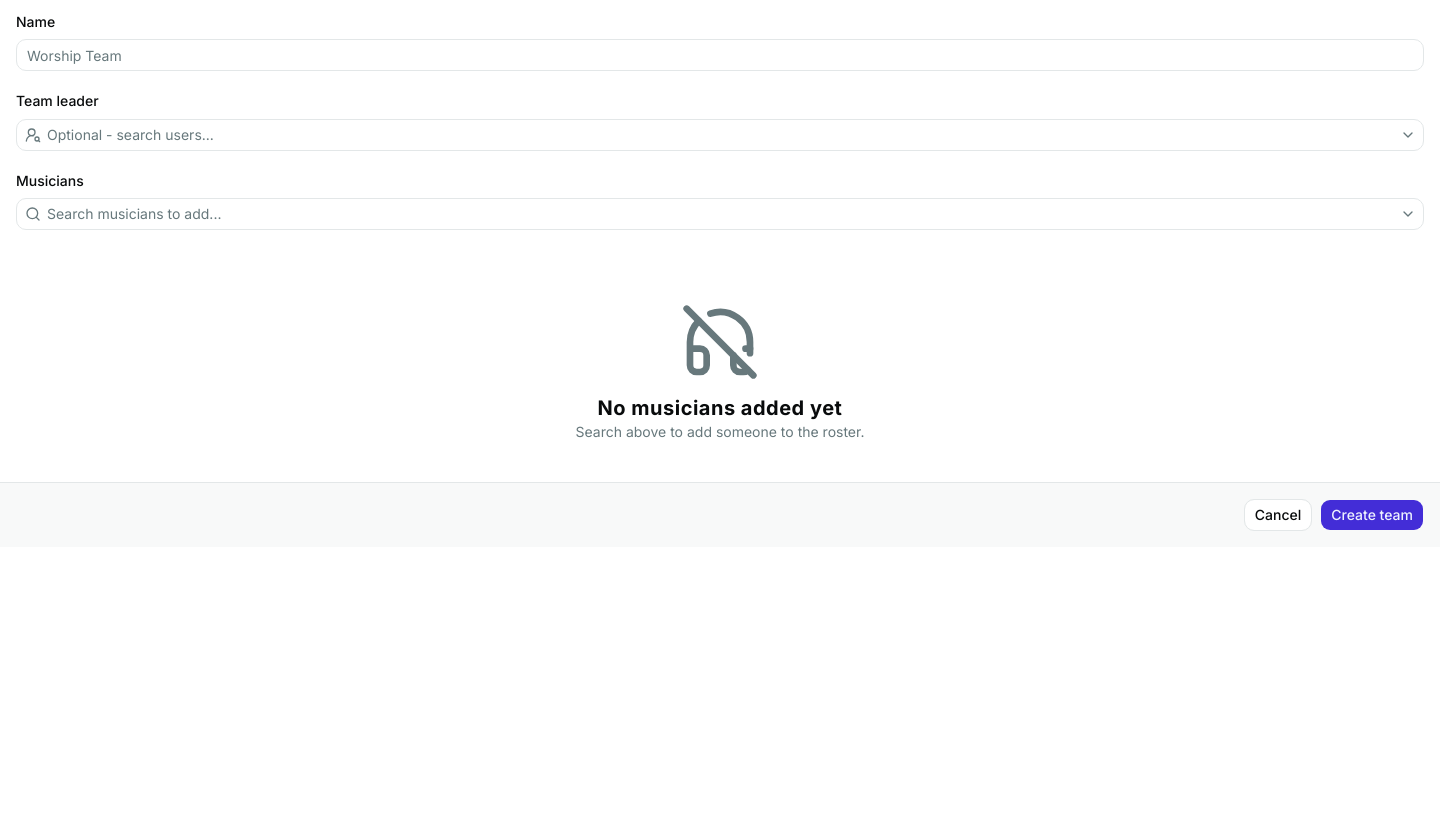
Test: CreateTeamForm › blocks submission and shows an inline error when name is empty
Click the button "Create team": (1372, 515) [1320,499,1424,531]
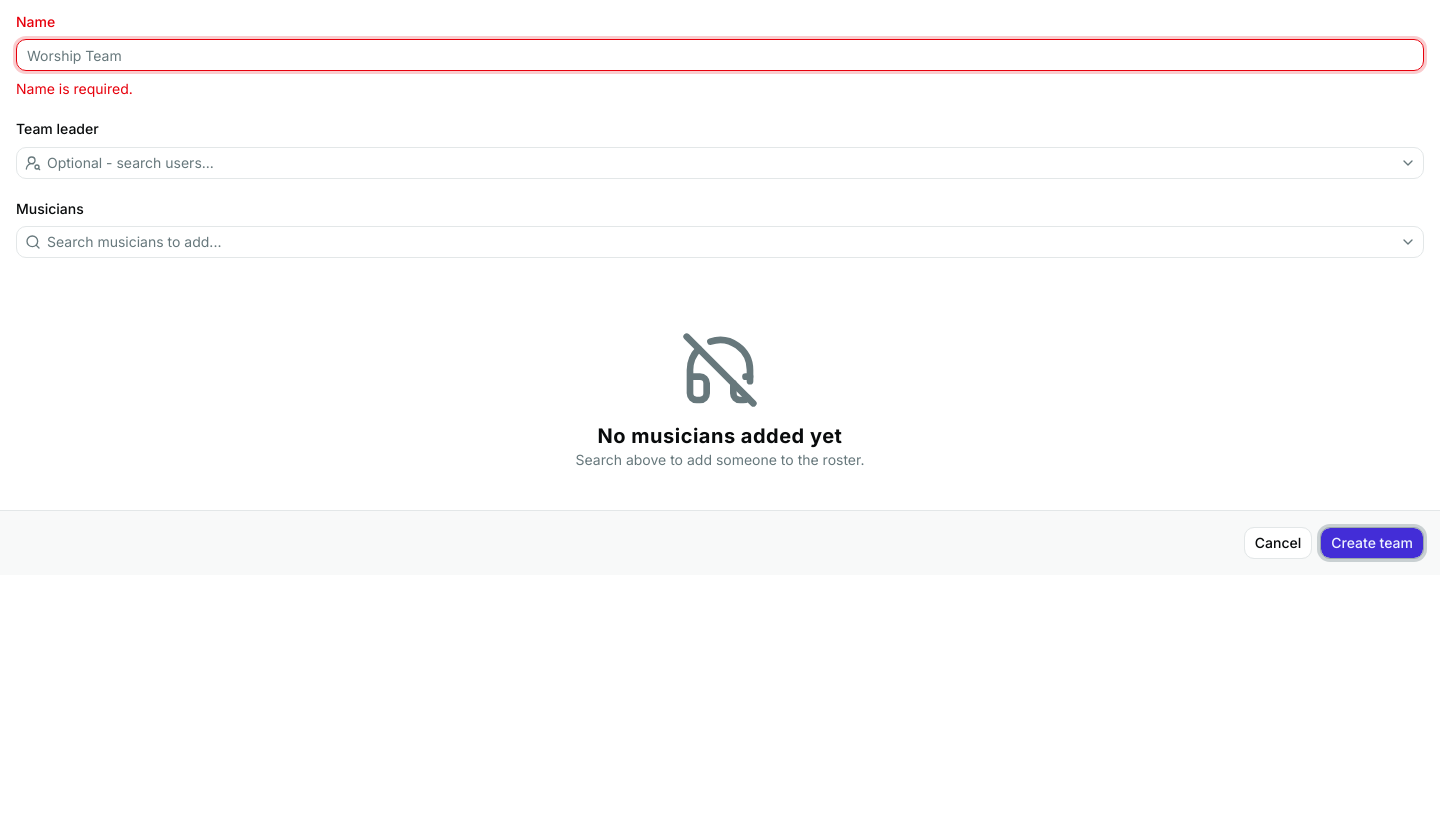
Expected: the text "Name is required." is shown, [16,80,133,97]
